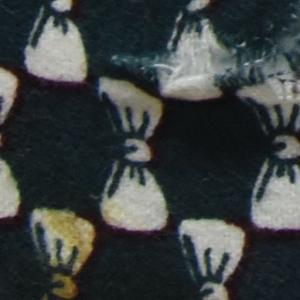Damage: (105, 1, 300, 113)
Stain: (38, 193, 106, 300)
